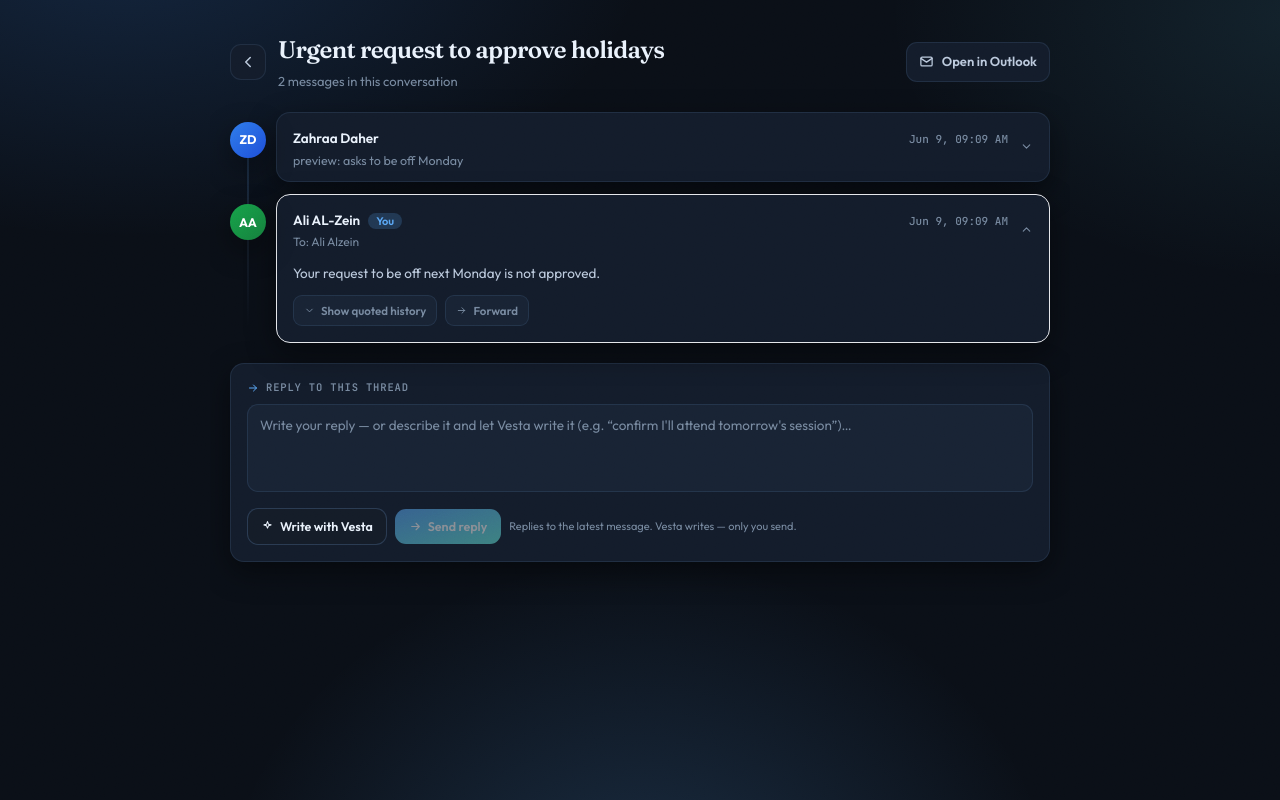
Scenario: ThreadView › the draft-only send mode is reported honestly
In the text box named "Reply text": (640,448) [247,404,1033,492], type "ok"
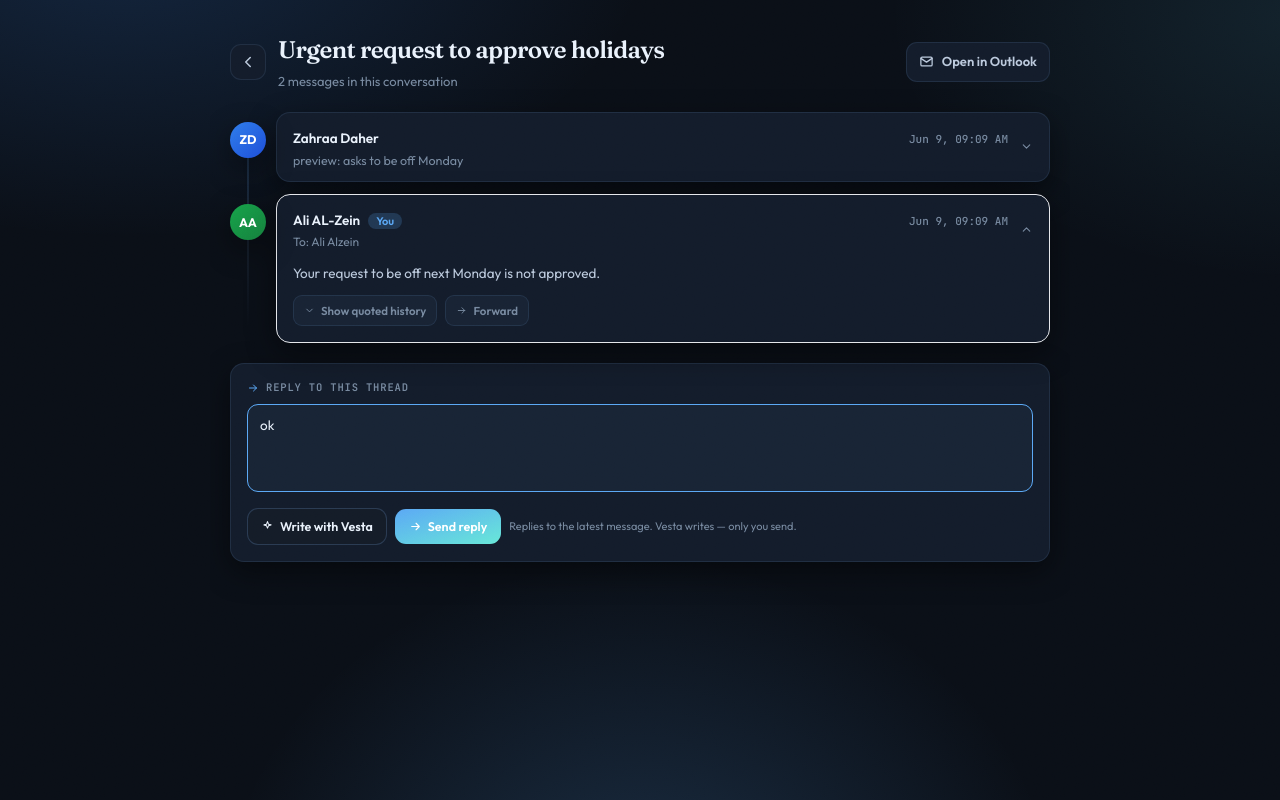
Click the button "Send reply": (448,526) [395,509,501,544]
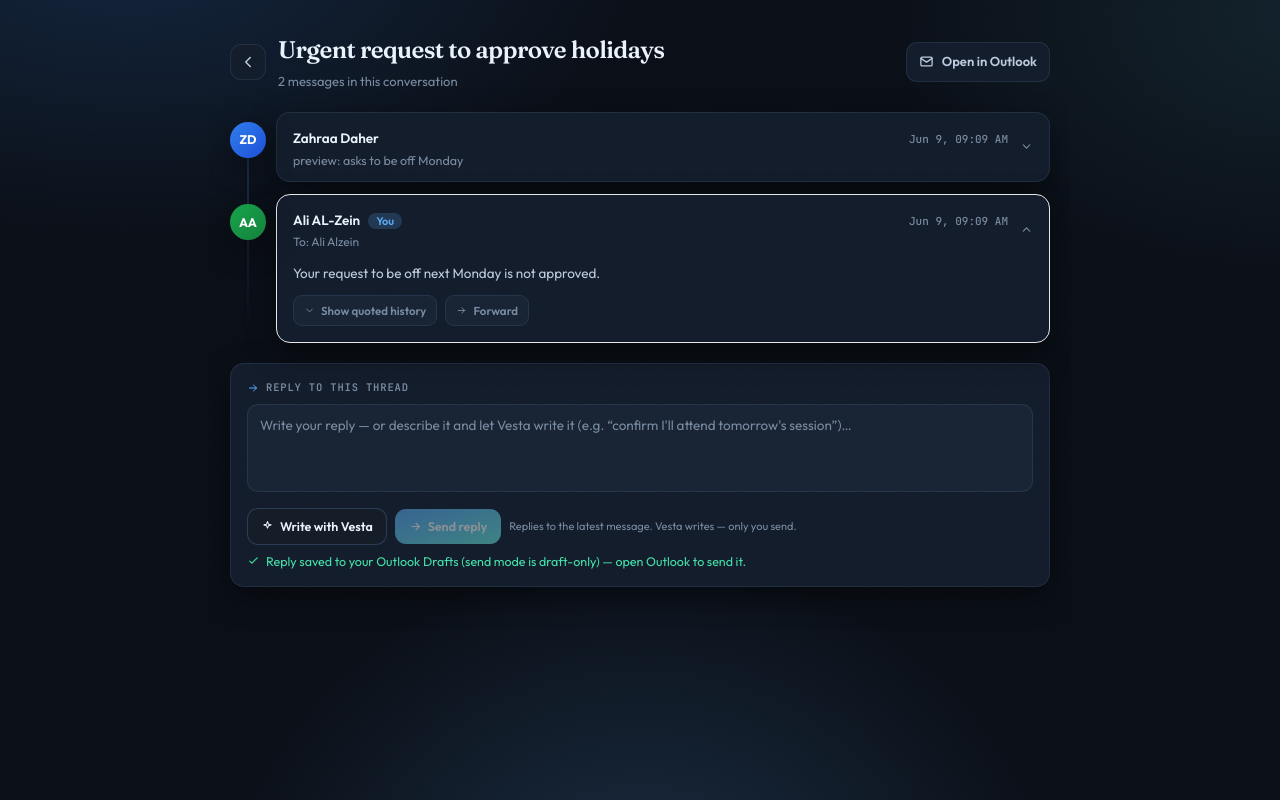
Now the text "saved to your Outlook Drafts" is shown, box [266,553,746,569]
